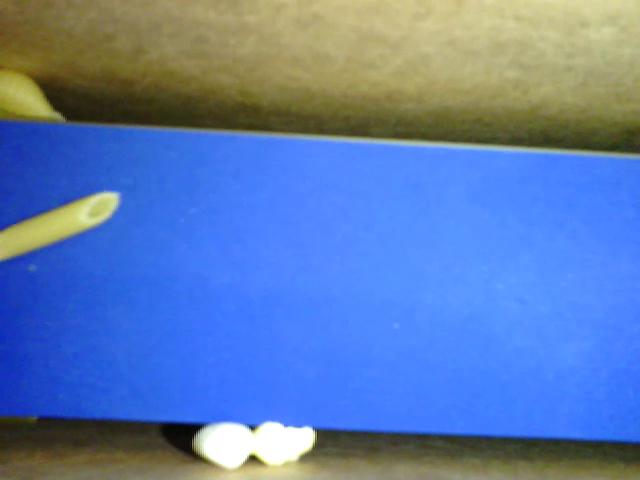penne: (1, 189, 123, 267)
shell: (1, 71, 69, 129)
